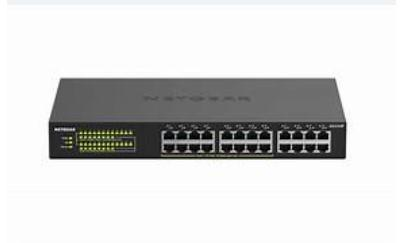NetworkSwitch: (47, 76, 349, 160)
